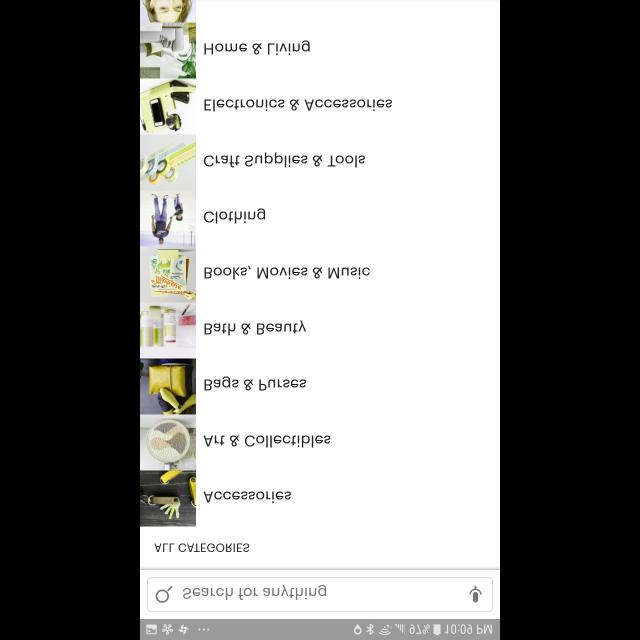icon: (156, 586, 172, 602), (470, 586, 482, 602)
image: (140, 22, 196, 78), (140, 78, 196, 134), (140, 134, 196, 190), (140, 190, 196, 246), (140, 246, 196, 302), (140, 302, 196, 358), (140, 358, 196, 414), (140, 414, 196, 470), (140, 470, 196, 526), (140, 0, 196, 22)
input: (147, 576, 493, 612)
text: (204, 152, 366, 168), (205, 265, 371, 279), (183, 584, 327, 600), (204, 99, 392, 111), (204, 434, 330, 448), (205, 40, 311, 56), (205, 320, 307, 336), (205, 376, 307, 392), (205, 491, 292, 503), (204, 208, 266, 224), (154, 542, 250, 552)
uppertaskbar: (140, 618, 500, 640)
